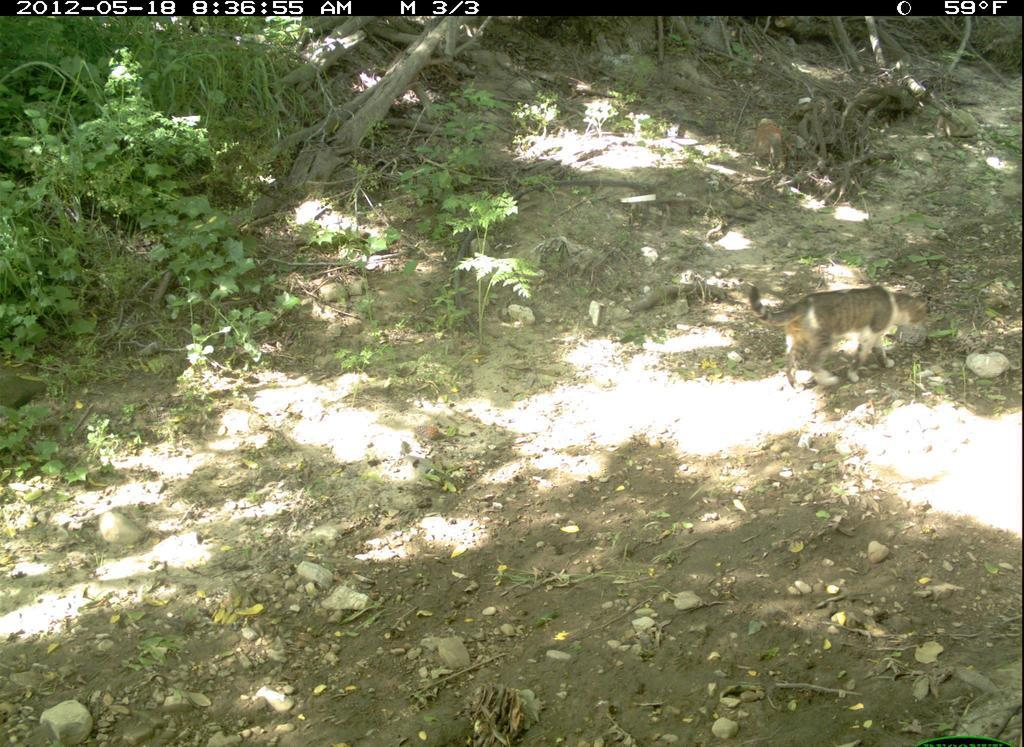cat: (744, 281, 932, 393)
